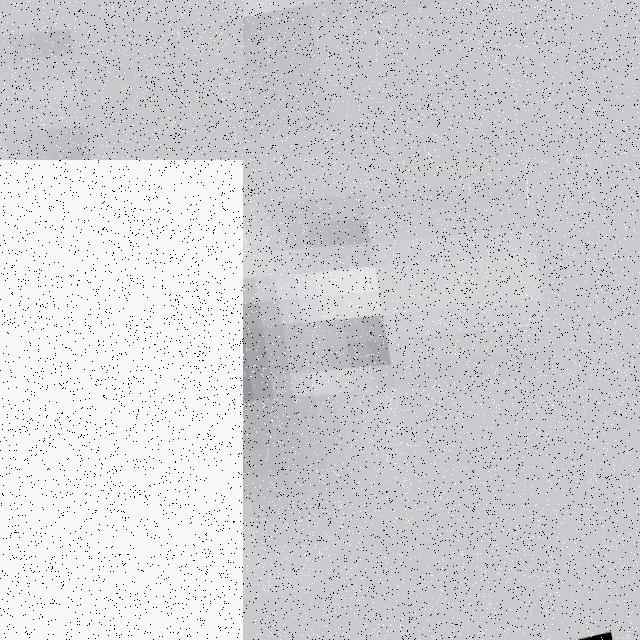drone: (243, 160, 614, 640), (0, 160, 243, 640), (0, 0, 243, 160)
